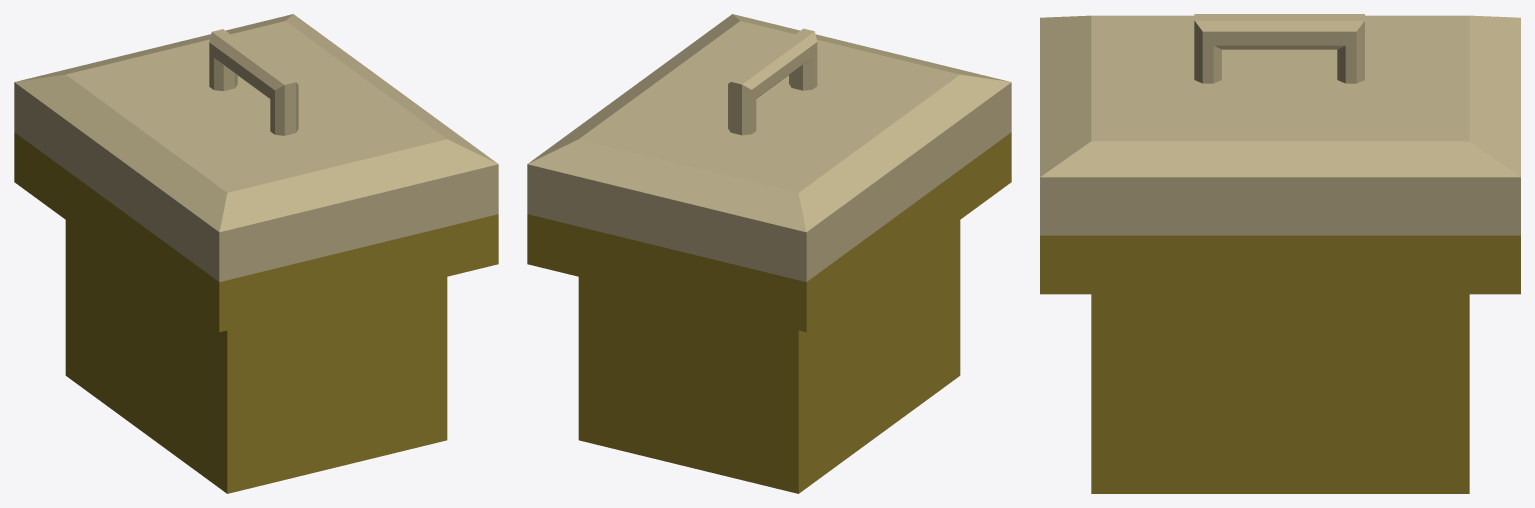
File: esky.fbx
The picture shows the model from 3 angles, left to right: view 1: azimuth 30°, elevation 25°; view 2: azimuth 150°, elevation 25°; view 3: azimuth 270°, elevation 25°; orthographic projection. The views are drawn at different scales.
Parts seen in each view (by area): view 1: pCube4; view 2: pCube4; view 3: pCube4.
Boxes of the visible parts, x1=… form: pCube4: x1=14, y1=14, x2=498, y2=493; pCube4: x1=527, y1=14, x2=1011, y2=493; pCube4: x1=1040, y1=14, x2=1520, y2=493.
Size of the model in its own units: 1.48 by 1.78 by 1.88.
